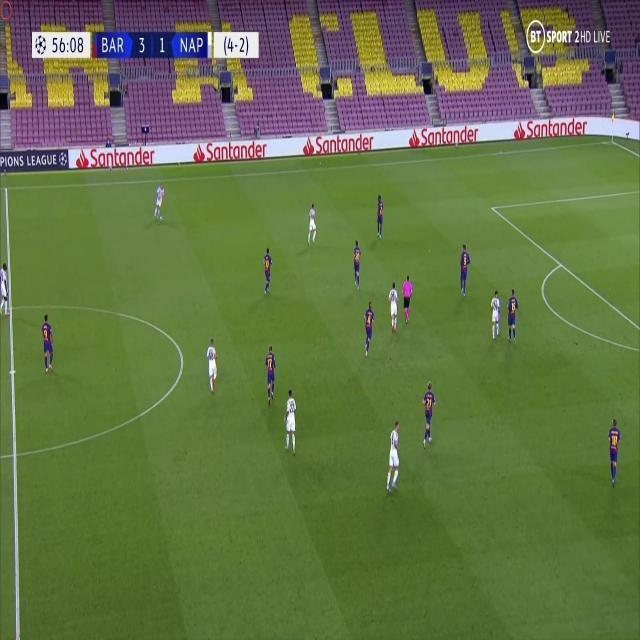ball: (159, 214, 164, 224)
player: (385, 416, 402, 494), (420, 378, 437, 448), (606, 416, 622, 486), (283, 387, 298, 455), (40, 310, 55, 374), (263, 342, 277, 406), (505, 286, 520, 345), (204, 334, 218, 396), (362, 299, 376, 357), (458, 242, 471, 298), (387, 279, 400, 333), (489, 288, 502, 341), (261, 245, 274, 297), (350, 238, 362, 290), (306, 200, 318, 248), (0, 262, 10, 318), (152, 180, 165, 222), (374, 192, 385, 240)
referee: (401, 271, 413, 323)
